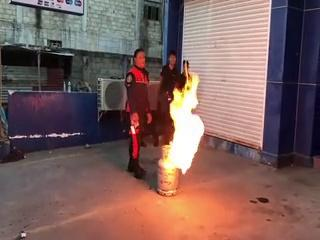Fire: (161, 67, 209, 173)
